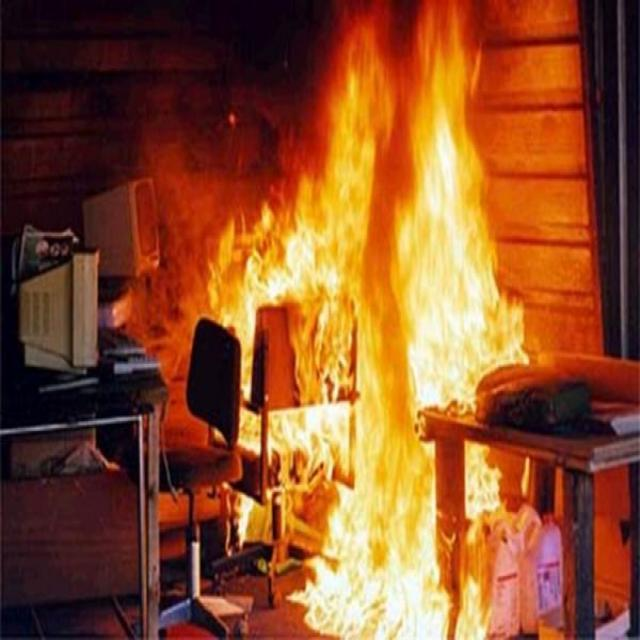Fire: (182, 32, 583, 640)
